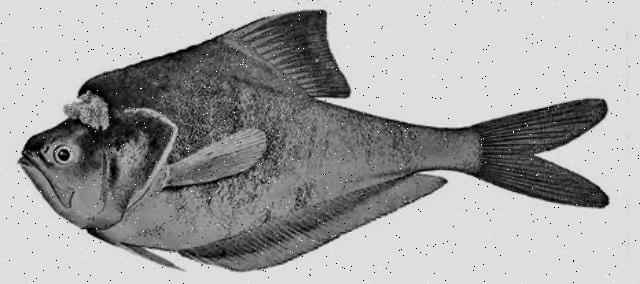Mulut: (14, 135, 66, 215)
Sirip Anal: (188, 167, 450, 276)
Sirip Dada: (170, 124, 268, 189)
Sirip Ekor: (476, 91, 612, 213)
Sirip Perut: (109, 237, 189, 277)
Sirip Punggung: (236, 3, 354, 105)
